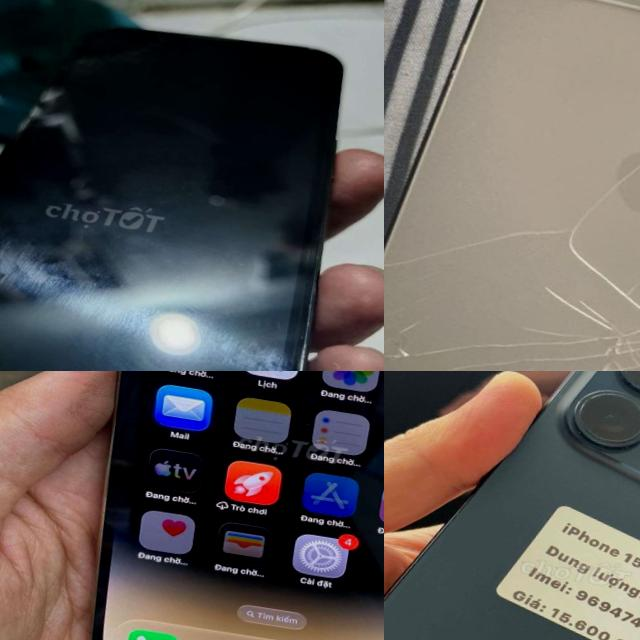physical_damage: (384, 265, 533, 371), (384, 203, 543, 298), (506, 208, 622, 288), (515, 274, 604, 371), (578, 161, 640, 254), (599, 238, 640, 345)
scratch: (0, 226, 311, 371)
